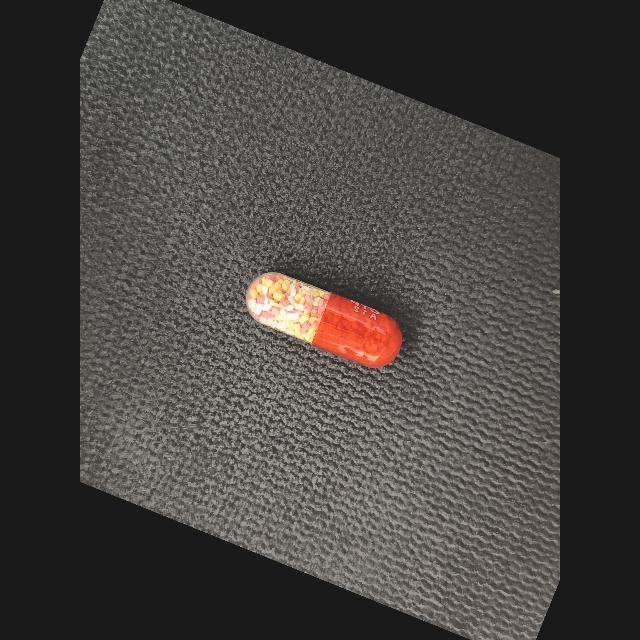Intact Capsule: (246, 273, 402, 368)
